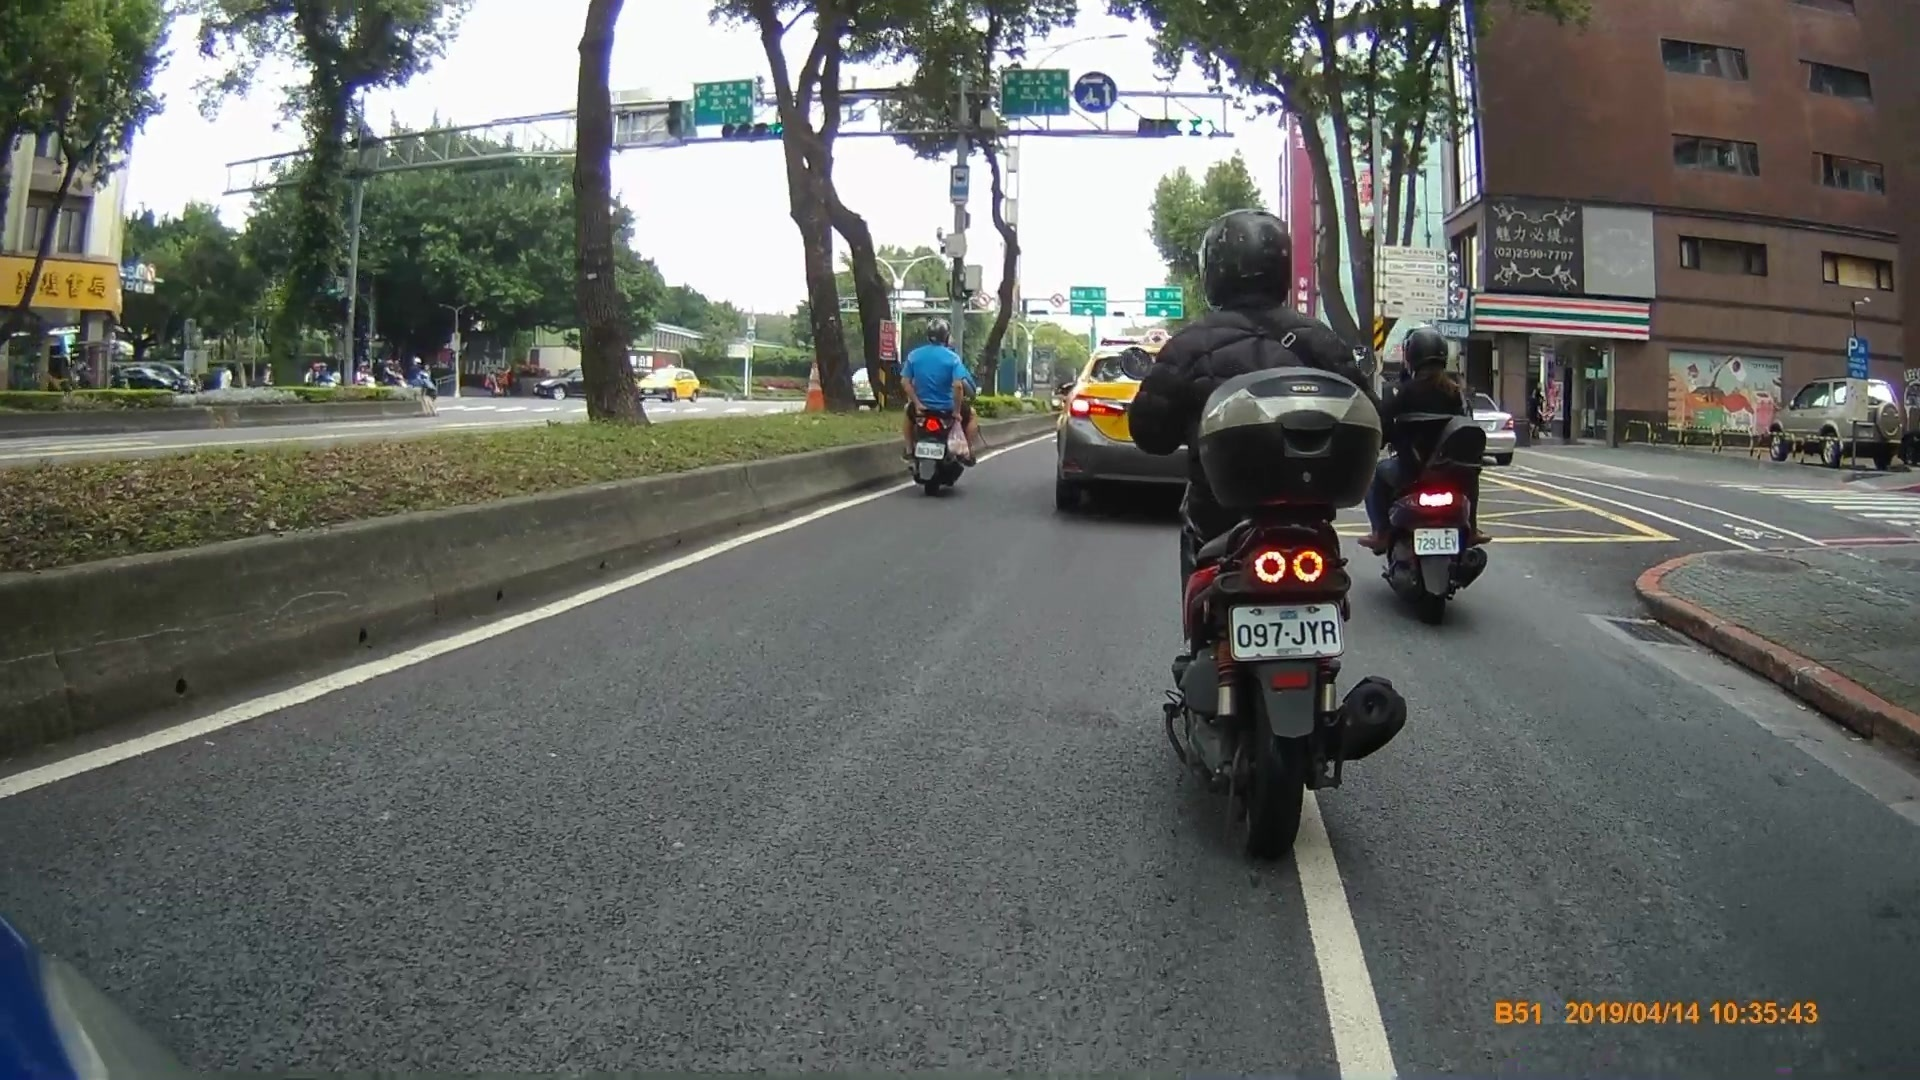License_plate: (1223, 602, 1345, 657), (1410, 525, 1465, 556), (913, 440, 945, 464)
